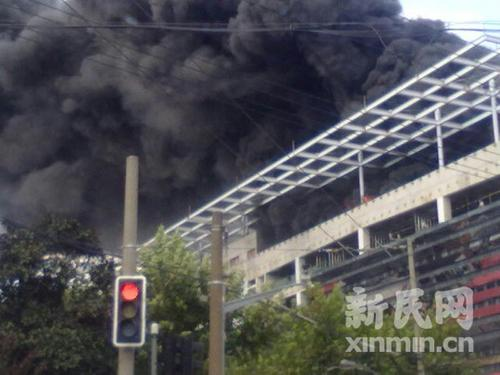smoke: (8, 6, 409, 159)
